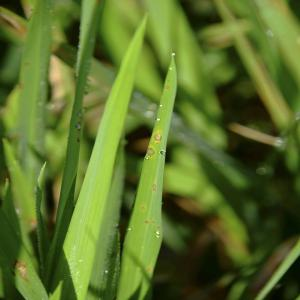Rice_Blast: (134, 142, 160, 168), (148, 120, 174, 146)
